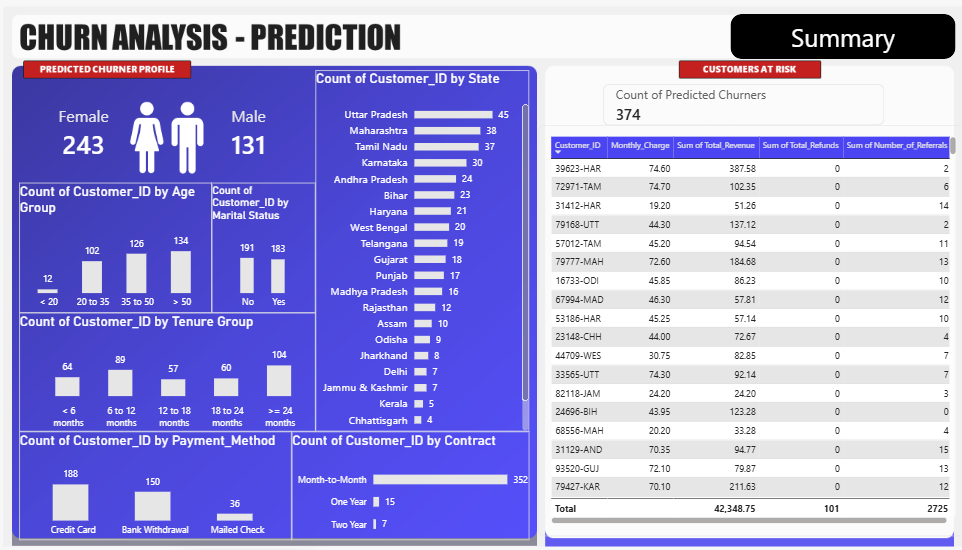

The page's visual inventory and layout, read from the dashboard file:
{"tool":"powerbi","page":{"name":"Churn Prediction","canvas":[1920,1080],"ordinal":2},"visuals":[{"type":"image","box":[408.3,290,260,121.7],"z":0},{"type":"tableEx","fields":{"Values":["Predictions.Customer_ID","Predictions.Monthly_Charge","Sum(Predictions.Total_Revenue)","Sum(Predictions.Total_Refunds)","Sum(Predictions.Number_of_Referrals)"]},"box":[1033.3,335,575,548.3],"z":1000},{"type":"cardVisual","fields":{"Data":["tbl_Measures.Title Predicted Churner"]},"box":[1120,280,375,55],"z":2000},{"type":"cardVisual","fields":{"Data":["tbl_Measures.Title Predicted Churner"]},"box":[340,280,175,131.7],"z":3000},{"type":"cardVisual","fields":{"Data":["tbl_Measures.Title Predicted Churner"]},"box":[558.3,280,178.3,131.7],"z":4000},{"type":"clusteredColumnChart","fields":{"Category":["Mapping_ageGrp.Age Group"],"Y":["CountNonNull(Predictions.Customer_ID)"]},"box":[341.7,411.7,256.7,173.3],"z":5000},{"type":"clusteredColumnChart","title":"Count of Customer_ID by Marital Status","fields":{"Y":["CountNonNull(Predictions.Customer_ID)"],"Category":["Predictions.Married"]},"box":[598.3,411.7,138.3,173.3],"z":6000},{"type":"clusteredColumnChart","fields":{"Y":["CountNonNull(Predictions.Customer_ID)"],"Category":["mapping_TenureGrp.Tenure Group"]},"box":[341.7,585,395,158.3],"z":7000},{"type":"clusteredColumnChart","fields":{"Y":["CountNonNull(Predictions.Customer_ID)"],"Category":["Predictions.Payment_Method"]},"box":[341.7,743.3,363.3,145],"z":8000},{"type":"clusteredBarChart","fields":{"Category":["Predictions.Contract"],"Y":["CountNonNull(Predictions.Customer_ID)"]},"box":[705,743.3,316.7,145],"z":9000},{"type":"clusteredBarChart","fields":{"Y":["CountNonNull(Predictions.Customer_ID)"],"Category":["Predictions.State"]},"box":[736.7,261.7,285,481.7],"z":10000},{"type":"shape","box":[1290,186.7,300,60],"z":10001}]}

Visuals, with their boxes in screenshot pixels (x1, y1, x2, y2), scaled from the page's 1920x1080 canvas onto the 962x550 screenshot:
image: (left=205, top=148, right=335, bottom=210)
tableEx - Predictions.Customer_ID x Predictions.Monthly_Charge: (left=518, top=171, right=806, bottom=450)
cardVisual - tbl_Measures.Title Predicted Churner: (left=561, top=143, right=749, bottom=171)
cardVisual - tbl_Measures.Title Predicted Churner: (left=170, top=143, right=258, bottom=210)
cardVisual - tbl_Measures.Title Predicted Churner: (left=280, top=143, right=369, bottom=210)
clusteredColumnChart - Mapping_ageGrp.Age Group x CountNonNull(Predictions.Customer_ID): (left=171, top=210, right=300, bottom=298)
"Count of Customer_ID by Marital Status" clusteredColumnChart: (left=300, top=210, right=369, bottom=298)
clusteredColumnChart - CountNonNull(Predictions.Customer_ID) x mapping_TenureGrp.Tenure Group: (left=171, top=298, right=369, bottom=379)
clusteredColumnChart - CountNonNull(Predictions.Customer_ID) x Predictions.Payment_Method: (left=171, top=379, right=353, bottom=452)
clusteredBarChart - Predictions.Contract x CountNonNull(Predictions.Customer_ID): (left=353, top=379, right=512, bottom=452)
clusteredBarChart - CountNonNull(Predictions.Customer_ID) x Predictions.State: (left=369, top=133, right=512, bottom=379)
shape: (left=646, top=95, right=797, bottom=126)
